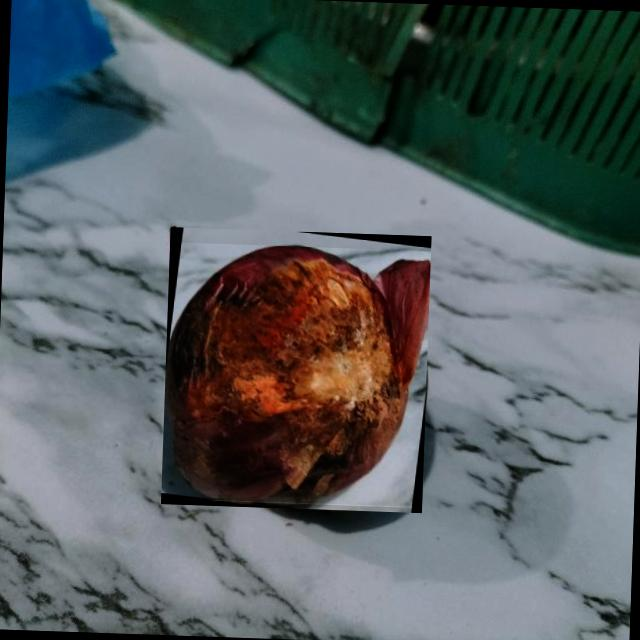rotten: (165, 246, 430, 502)
